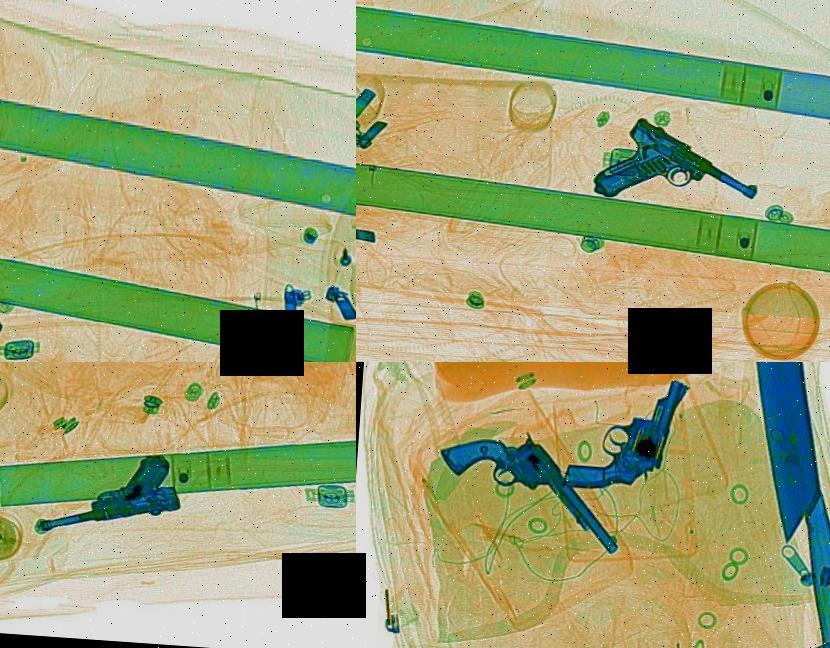Gun: (424, 394, 642, 557), (544, 108, 773, 244), (556, 362, 715, 534), (7, 439, 214, 564)
Knife: (711, 362, 830, 648)
